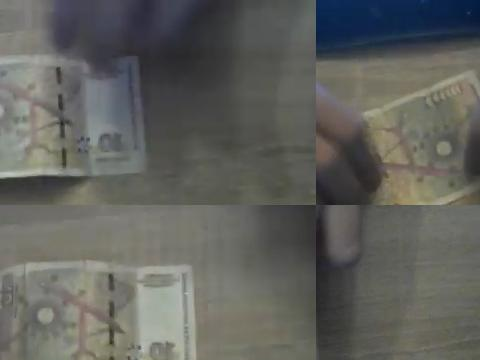10leva: (0, 261, 198, 360), (0, 55, 144, 182), (362, 70, 480, 205)
